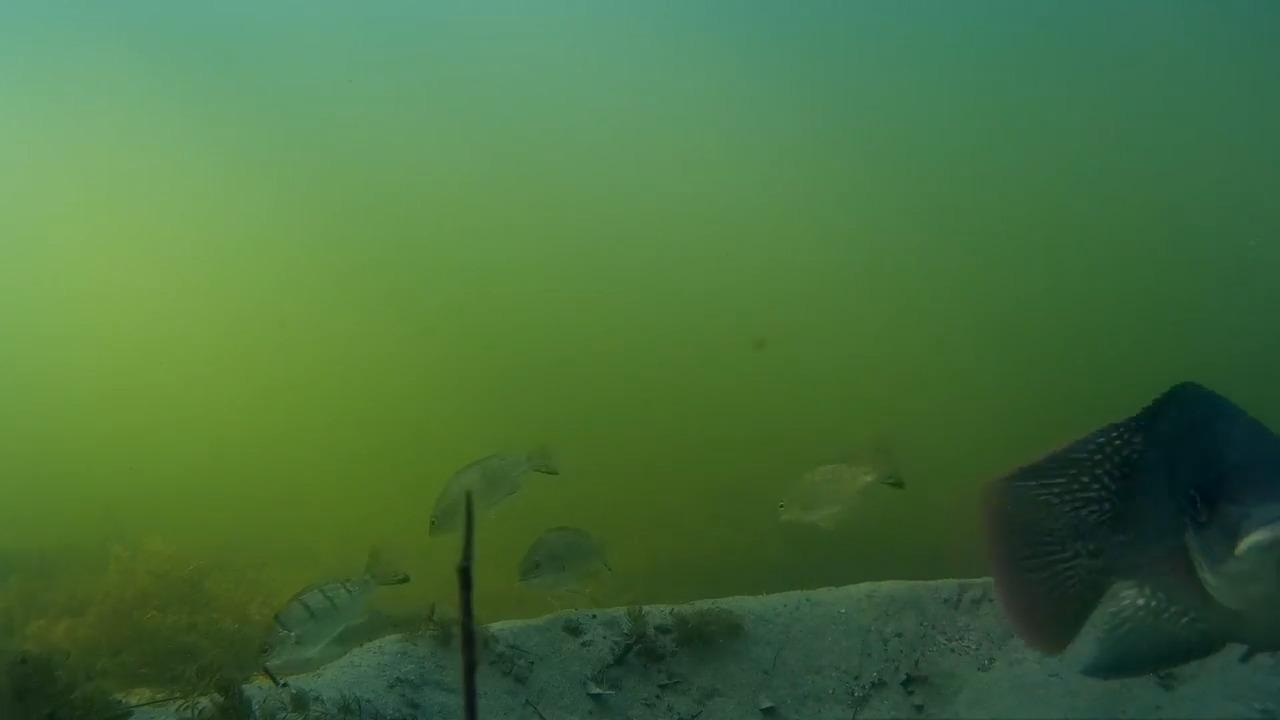Tilapia: (980, 368, 1280, 677), (268, 543, 418, 699), (772, 443, 908, 541), (427, 432, 560, 532), (514, 516, 639, 608)
